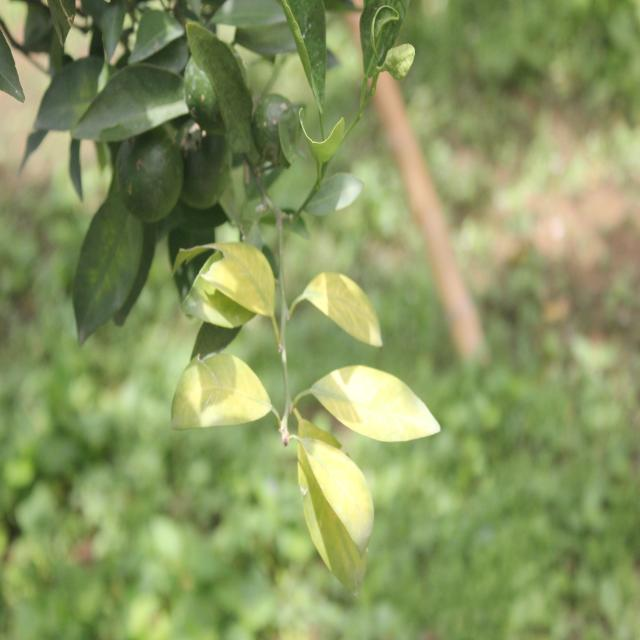greening: (293, 428, 370, 584), (161, 347, 276, 436), (314, 358, 428, 438), (195, 238, 278, 313), (311, 264, 377, 337)
